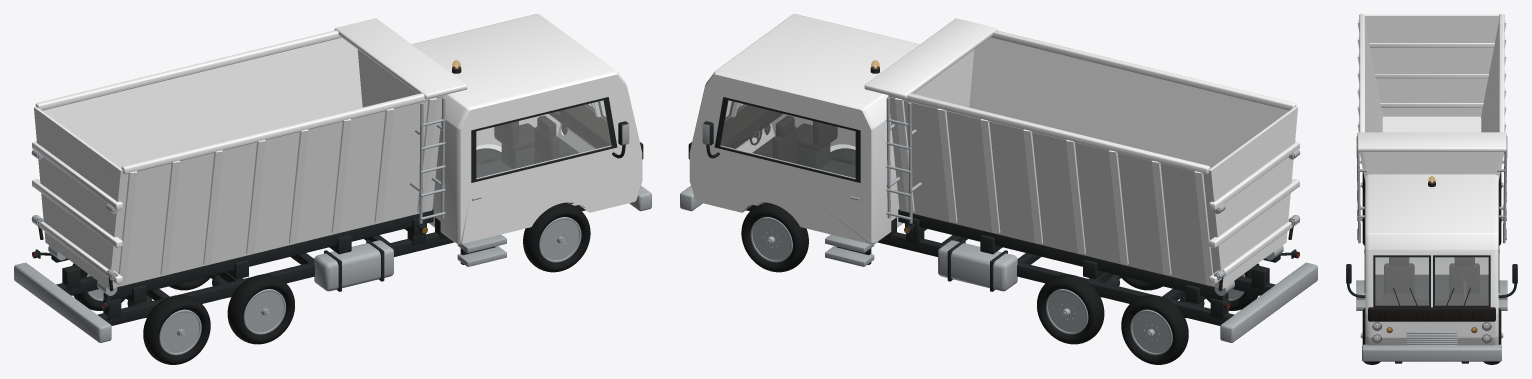
The model's file is tipper.glb.
The picture shows the model from 3 angles, left to right: view 1: azimuth 30°, elevation 25°; view 2: azimuth 150°, elevation 25°; view 3: azimuth 270°, elevation 25°; orthographic projection. The views are drawn at different scales.
Parts seen in each view (by area): view 1: Finite open tapered dump hopper, Shaped hollow cab with cut wheel arches and true glazing ape, Cab -1 side window finite glazing, Headboard cab-protection lip, Equipment longitudinal subframe -750, Hopper upper rolled rail -1, Hopper upper rolled rail 1, Chassis longitudinal rail -590, Chassis fuel tank -1, Closed formed bumper -4480.0, Axle 2 right wheel rounded tyre carcass, Axle 3 right wheel rounded tyre carcass (+21 smaller); view 2: Finite open tapered dump hopper, Shaped hollow cab with cut wheel arches and true glazing ape, Cab 1 side window finite glazing, Headboard cab-protection lip, Equipment longitudinal subframe 750, Hopper upper rolled rail 1, Hopper upper rolled rail -1, Chassis longitudinal rail 590, Chassis fuel tank 1, Closed formed bumper -4480.0, Axle 2 left wheel rounded tyre carcass, Axle 3 left wheel rounded tyre carcass (+21 smaller); view 3: Finite open tapered dump hopper, Shaped hollow cab with cut wheel arches and true glazing ape, Headboard cab-protection lip, Seated full-width dashboard, Cab 1 windscreen finite glazing, Cab -1 windscreen finite glazing, Closed formed bumper 4480.0, Closed dark cab floor, Cab seat -1 backrest, Cab seat 1 backrest, Hopper upper rolled rail 1, Hopper upper rolled rail -1 (+18 smaller).
Part boxes in pixels (<box>): Finite open tapered dump hopper: <box>34,37,443,289</box>; Shaped hollow cab with cut wheel arches and true glazing ape: <box>412,14,642,244</box>; Cab -1 side window finite glazing: <box>476,100,611,179</box>; Headboard cab-protection lip: <box>334,18,467,99</box>; Equipment longitudinal subframe -750: <box>103,209,433,300</box>; Hopper upper rolled rail -1: <box>121,93,443,174</box>; Hopper upper rolled rail 1: <box>35,30,341,110</box>; Chassis longitudinal rail -590: <box>97,205,585,325</box>; Chassis fuel tank -1: <box>314,240,393,291</box>; Closed formed bumper -4480.0: <box>14,262,111,342</box>; Axle 2 right wheel rounded tyre carcass: <box>227,274,294,344</box>; Axle 3 right wheel rounded tyre carcass: <box>143,295,210,364</box>; Finite open tapered dump hopper: <box>888,37,1297,289</box>; Shaped hollow cab with cut wheel arches and true glazing ape: <box>689,14,919,244</box>; Cab 1 side window finite glazing: <box>720,100,855,179</box>; Headboard cab-protection lip: <box>864,18,997,99</box>; Equipment longitudinal subframe 750: <box>898,209,1228,300</box>; Hopper upper rolled rail 1: <box>888,93,1210,174</box>; Hopper upper rolled rail -1: <box>990,30,1296,110</box>; Chassis longitudinal rail 590: <box>746,205,1234,325</box>; Chassis fuel tank 1: <box>938,240,1017,291</box>; Closed formed bumper -4480.0: <box>1220,262,1317,342</box>; Axle 2 left wheel rounded tyre carcass: <box>1037,274,1104,344</box>; Axle 3 left wheel rounded tyre carcass: <box>1121,295,1188,364</box>; Finite open tapered dump hopper: <box>1363,14,1500,174</box>; Shaped hollow cab with cut wheel arches and true glazing ape: <box>1365,174,1498,345</box>; Headboard cab-protection lip: <box>1357,132,1506,151</box>; Seated full-width dashboard: <box>1368,299,1495,321</box>; Cab 1 windscreen finite glazing: <box>1435,257,1488,305</box>; Cab -1 windscreen finite glazing: <box>1375,257,1428,305</box>; Closed formed bumper 4480.0: <box>1362,344,1501,361</box>; Closed dark cab floor: <box>1375,274,1488,299</box>; Cab seat -1 backrest: <box>1384,263,1414,293</box>; Cab seat 1 backrest: <box>1449,263,1479,293</box>; Hopper upper rolled rail 1: <box>1499,14,1504,132</box>; Hopper upper rolled rail -1: <box>1359,14,1364,132</box>.
Size of the model in its own units: 9.18 by 3.42 by 3.04.
Materials: 12 (10 with a texture image).
